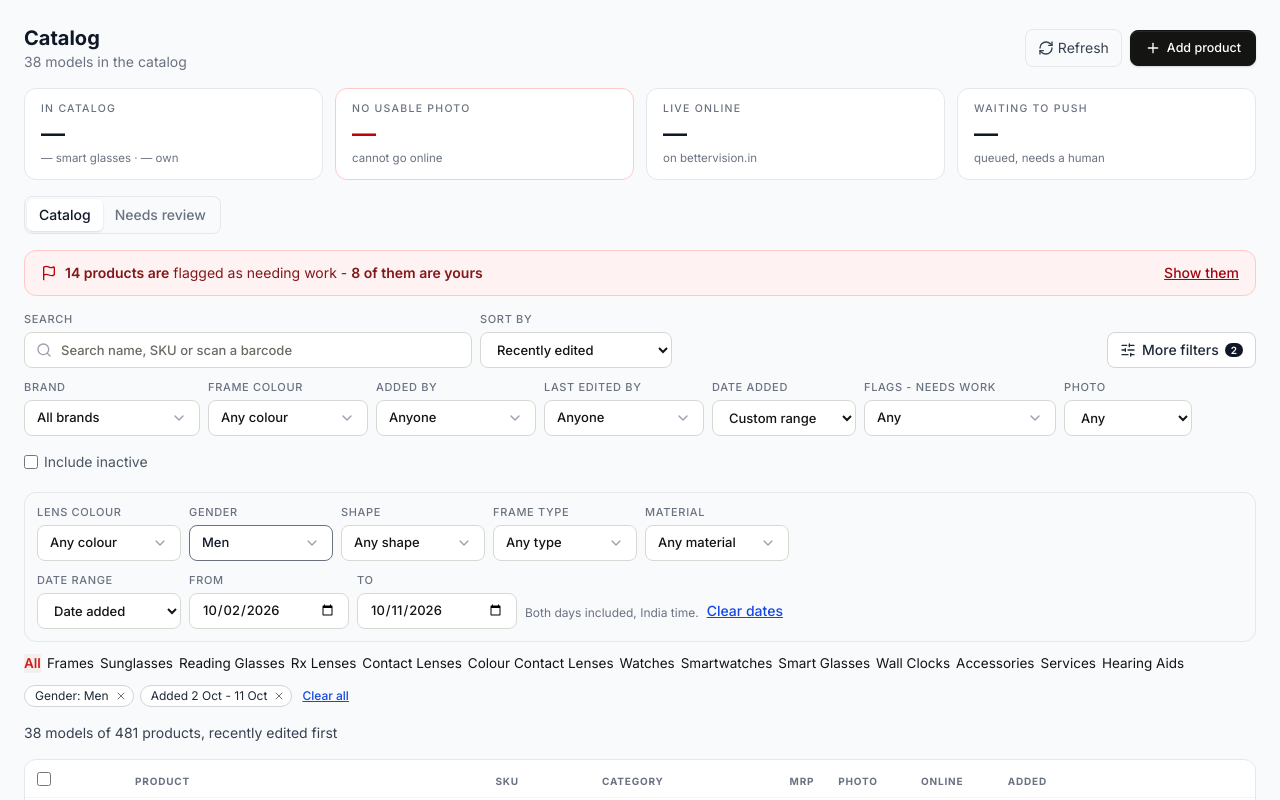
Test: typing a To date with the keyboard › a refused range's message goes when its value goes (the chip's X)
The width and height of the screenshot is (1280, 800).
Type "2026-10-20" into the date field labelled "From" at [269, 611], box [189,593,349,629]
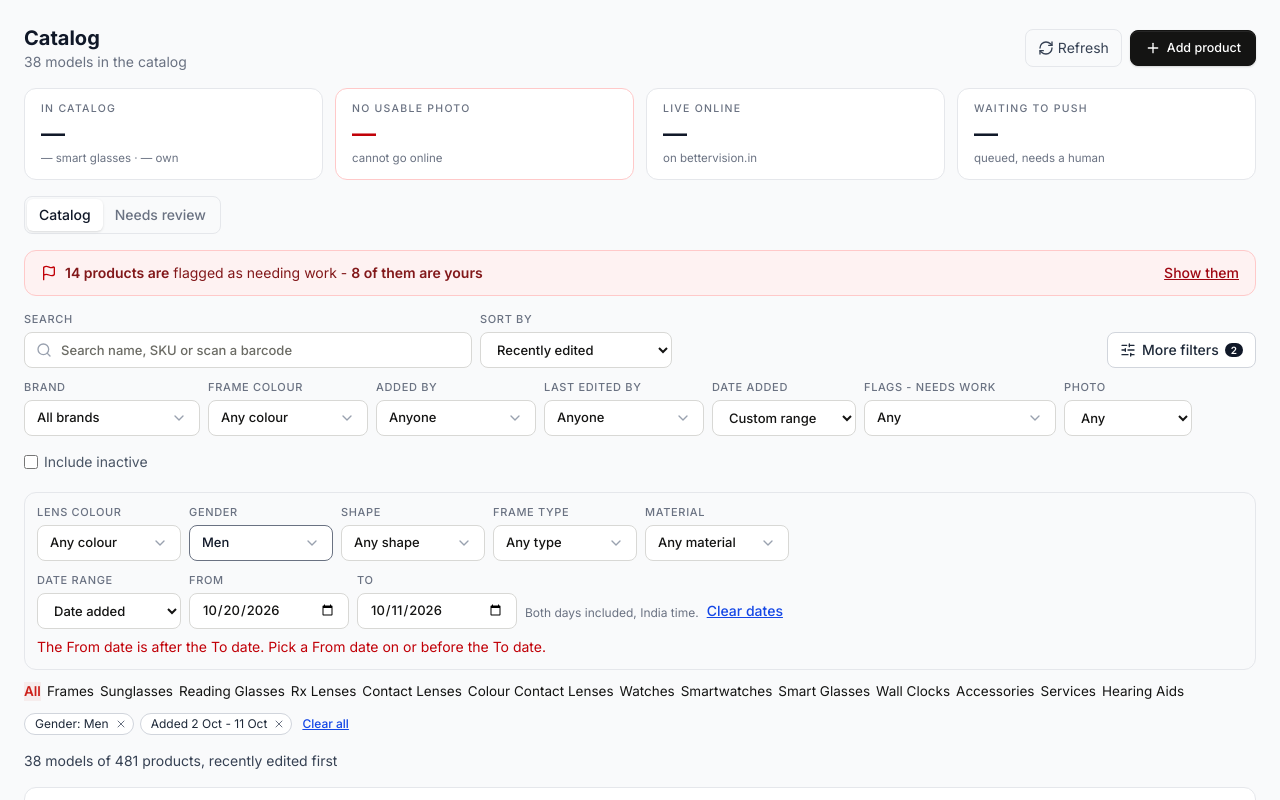
Expected: the message "The From date is after the To date. Pick a From date on or before the To date." is shown, [37,638,546,655]
Select "MRP high to low" in the dropdown labelled "Sort by" at [576, 350], box [480,332,672,368]
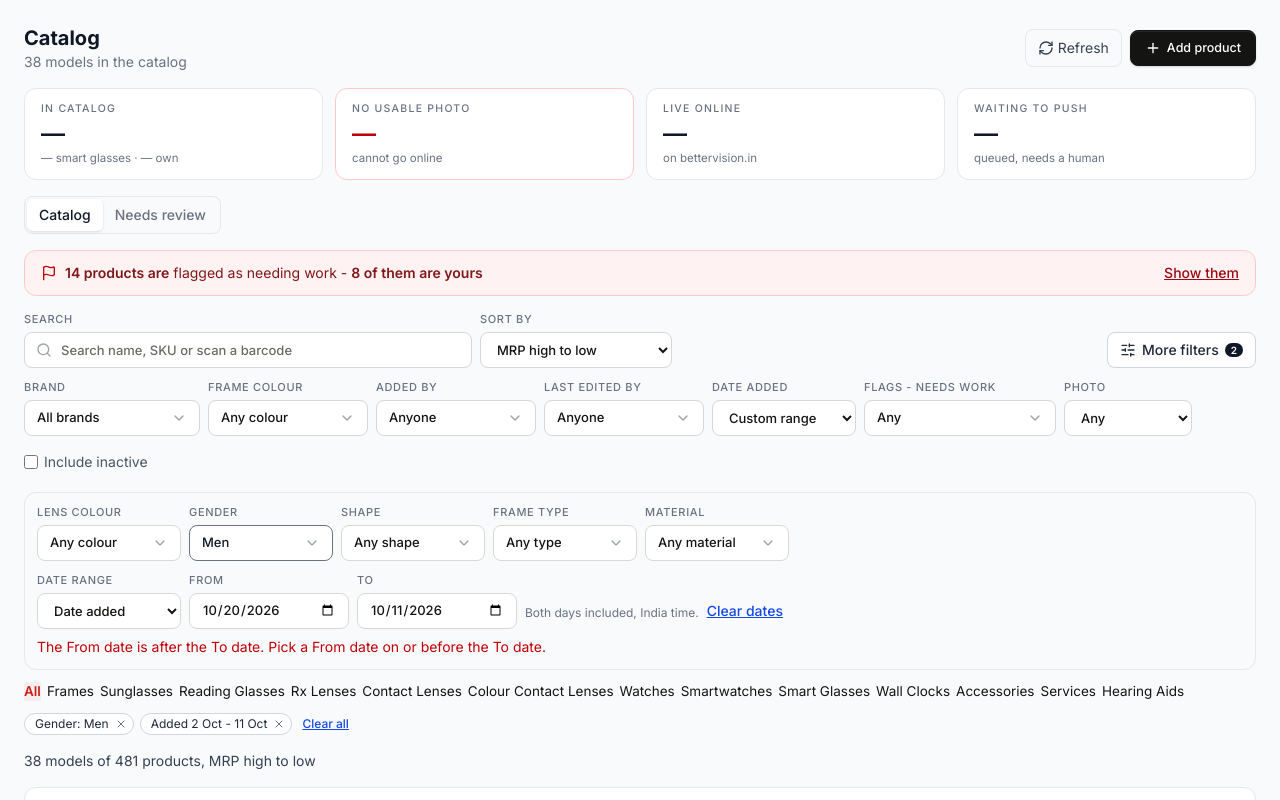
Click the button named "Remove Added 2 Oct - 11 Oct filter" at [279, 724], box [271,716,287,732]
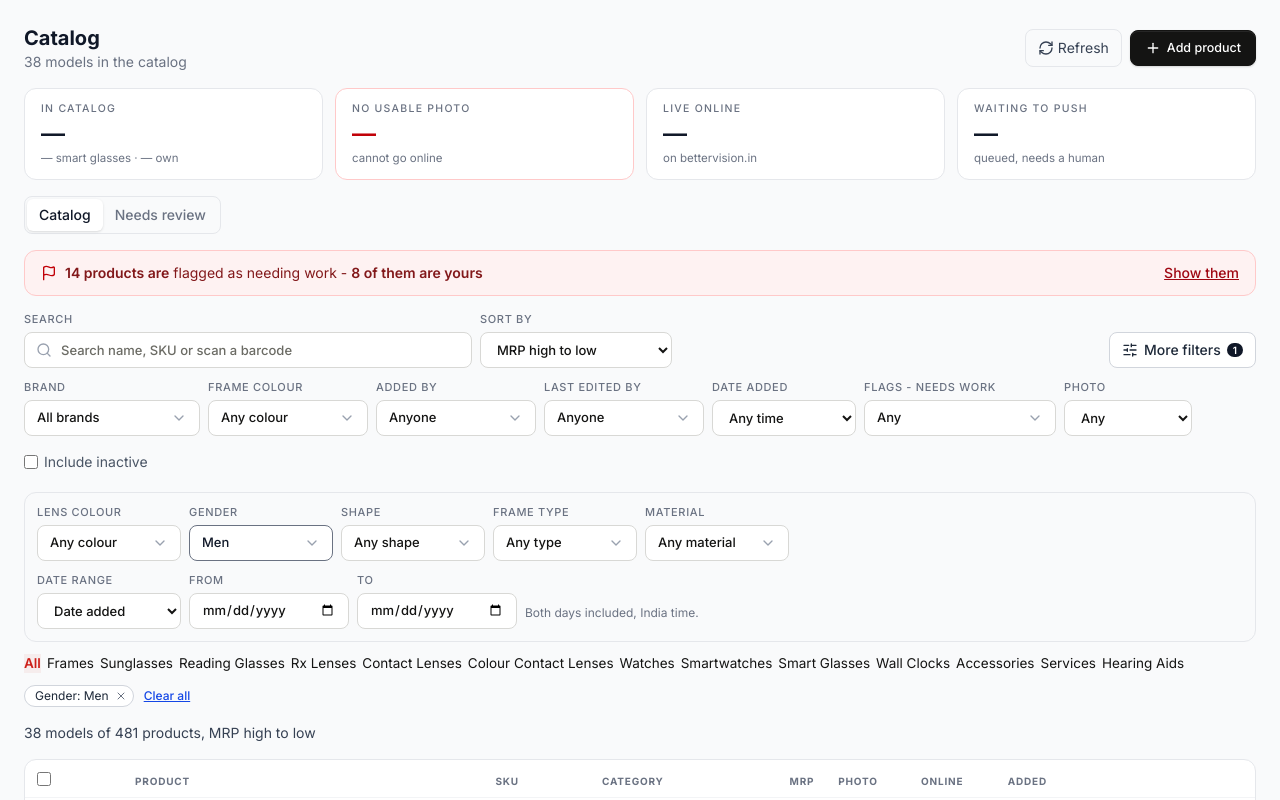
Expected: the message "The From date is after the To date. Pick a From date on or before the To date." is gone
Expected: the date field labelled "From" is empty, [189,593,349,629]
